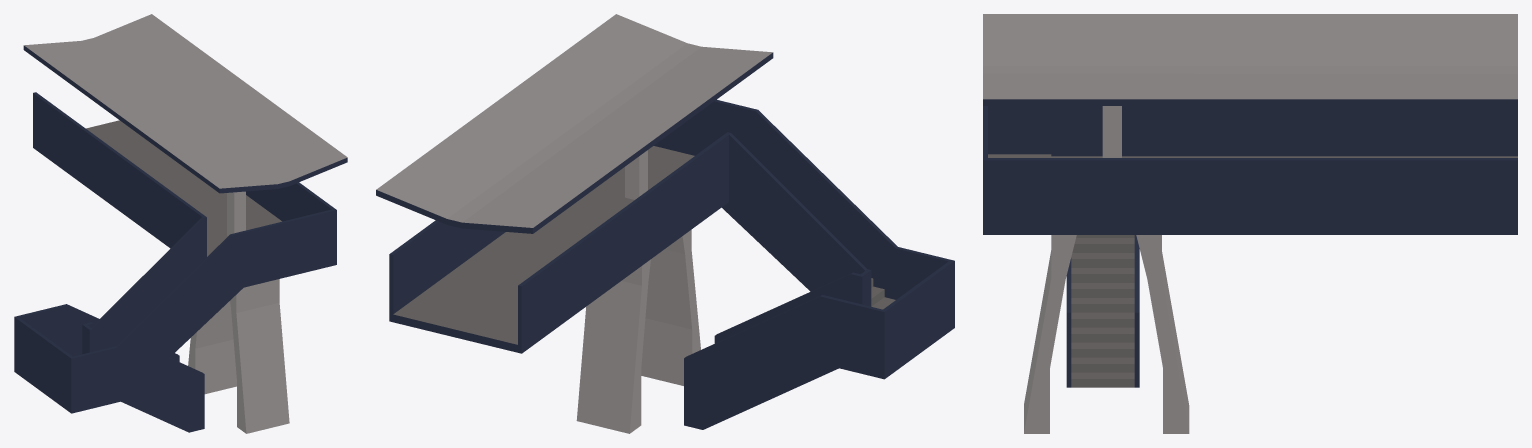
Rendered from trainstation-oberpass-end.glb.
The picture shows the model from 3 angles, left to right: view 1: azimuth 30°, elevation 25°; view 2: azimuth 150°, elevation 25°; view 3: azimuth 270°, elevation 25°; orthographic projection. The views are drawn at different scales.
Visible parts, largest first — view 1: trainstation-oberpass-end; view 2: trainstation-oberpass-end; view 3: trainstation-oberpass-end.
Boxes of the visible parts, x1,y1,x2,y2 form: trainstation-oberpass-end: (14, 14, 347, 433); trainstation-oberpass-end: (376, 14, 954, 433); trainstation-oberpass-end: (983, 14, 1517, 433).
Size of the model in its own units: 8.95 by 8.25 by 10.99.
Materials: 1 (1 with a texture image).
